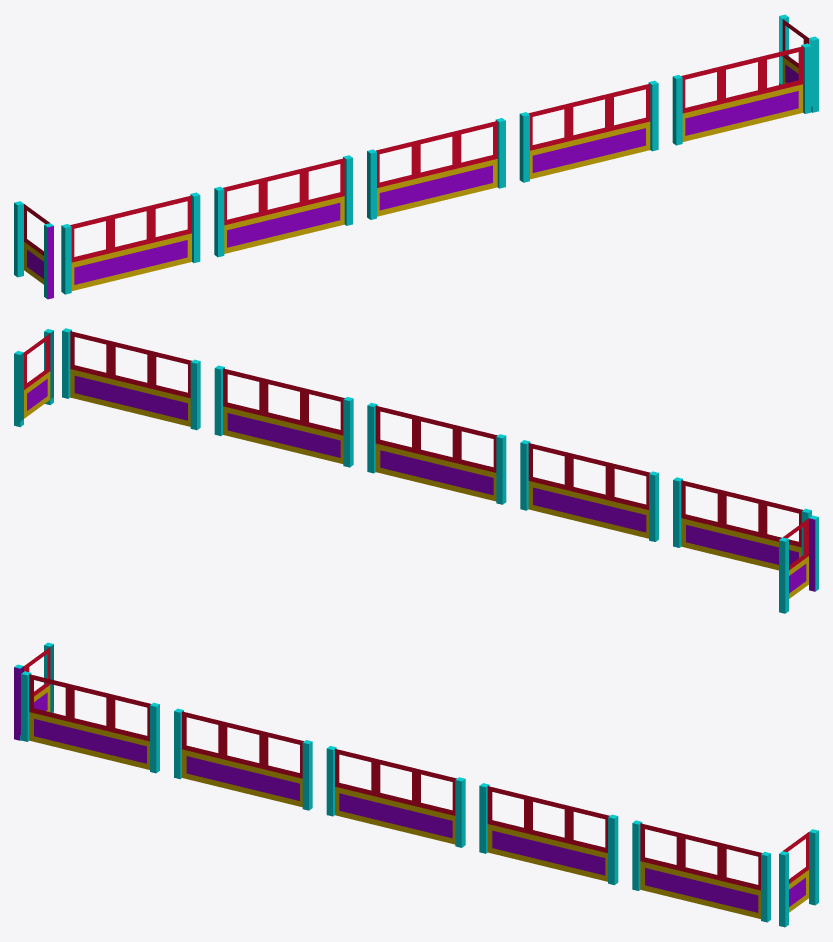
File: Top Railings.fbx
The picture shows the model from 3 angles, top to bottom: view 1: azimuth 30°, elevation 25°; view 2: azimuth 150°, elevation 25°; view 3: azimuth 330°, elevation 25°; orthographic projection.
Parts seen in each view (by area): view 1: Top Rail Front.001; view 2: Top Rail Front.001; view 3: Top Rail Front.001.
Part boxes in pixels (<box>): Top Rail Front.001: <box>14,14,818,299</box>; Top Rail Front.001: <box>14,328,818,613</box>; Top Rail Front.001: <box>14,642,818,927</box>.
Size of the model in its own units: 1918 by 172 by 168.
